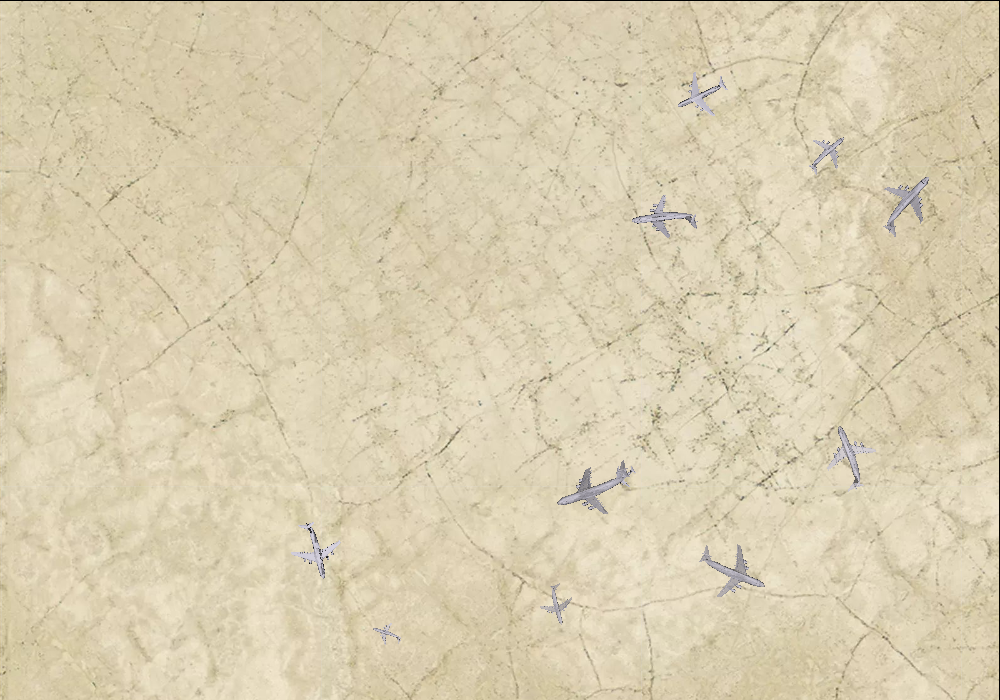plane: (544, 442, 641, 531), (862, 158, 954, 250), (687, 526, 778, 614), (808, 416, 888, 499), (280, 515, 349, 586), (666, 59, 736, 128), (628, 188, 700, 251), (796, 122, 859, 185), (533, 579, 581, 629), (603, 458, 641, 495), (368, 617, 405, 652)
